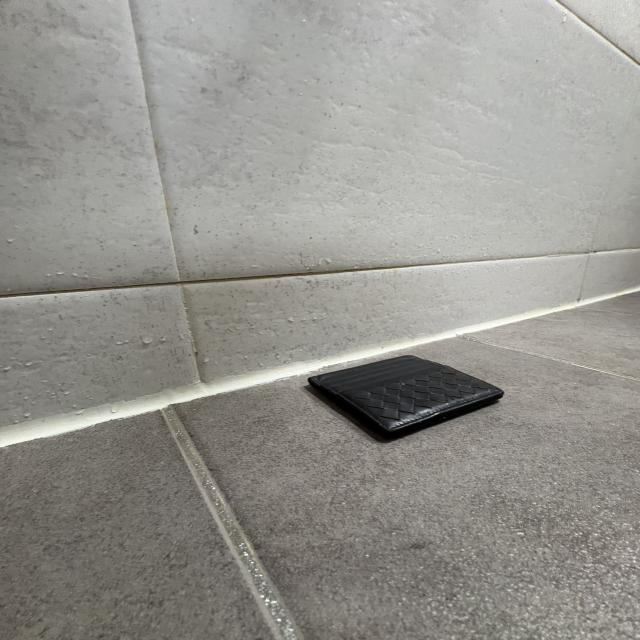wallet: (307, 354, 504, 441)
